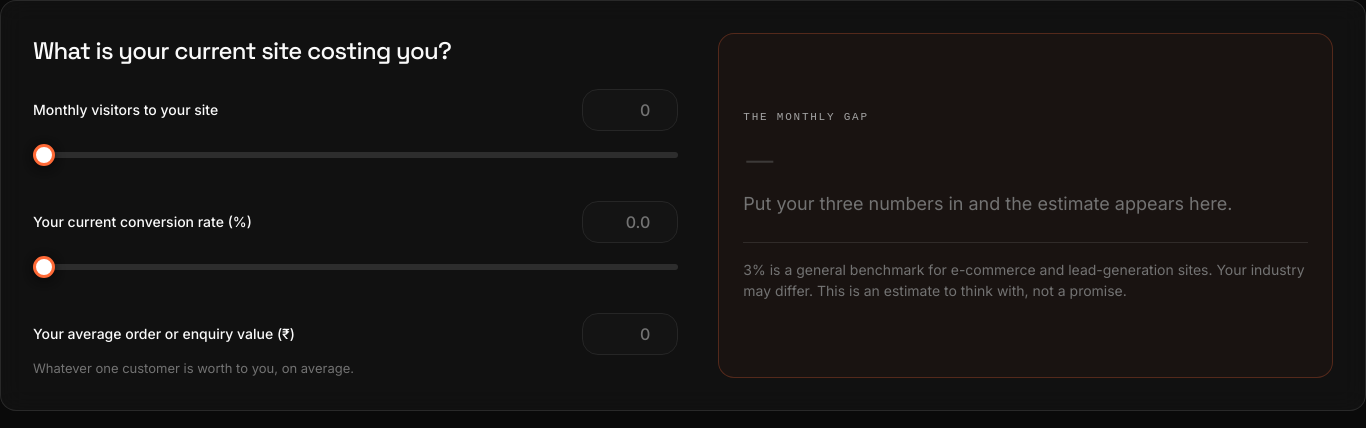
CostOfDelayCalculator › updates the output as the visitor types
Type "10000" into the number field labelled "Monthly visitors to your site" at (630, 110), box [582,89,678,131]
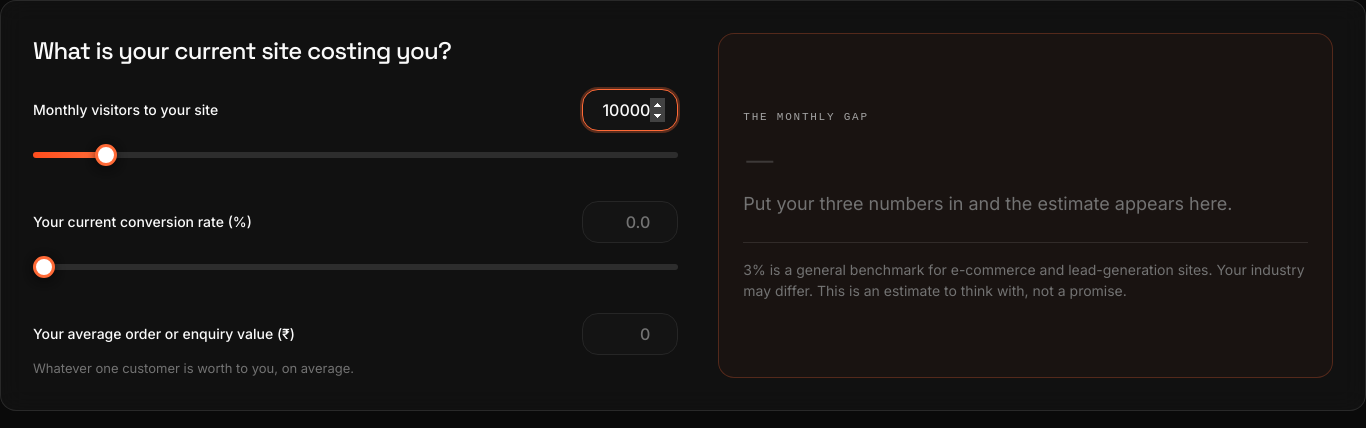
Type "1" into the number field labelled "Your current conversion rate (%)" at (630, 222), box [582,201,678,243]
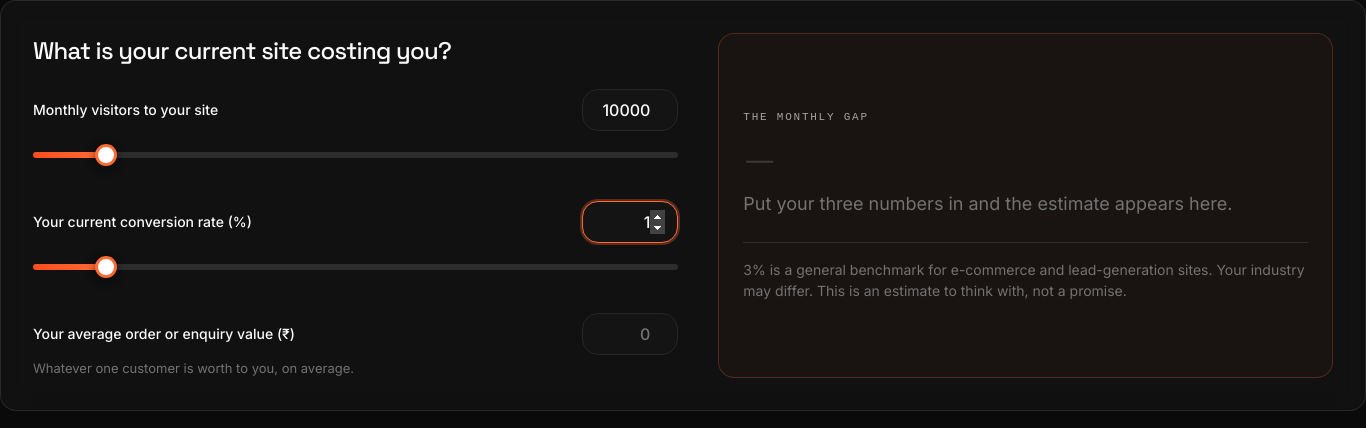
Type "2000" into the number field labelled "Your average order or enquiry value (₹)" at (630, 334), box [582,313,678,355]
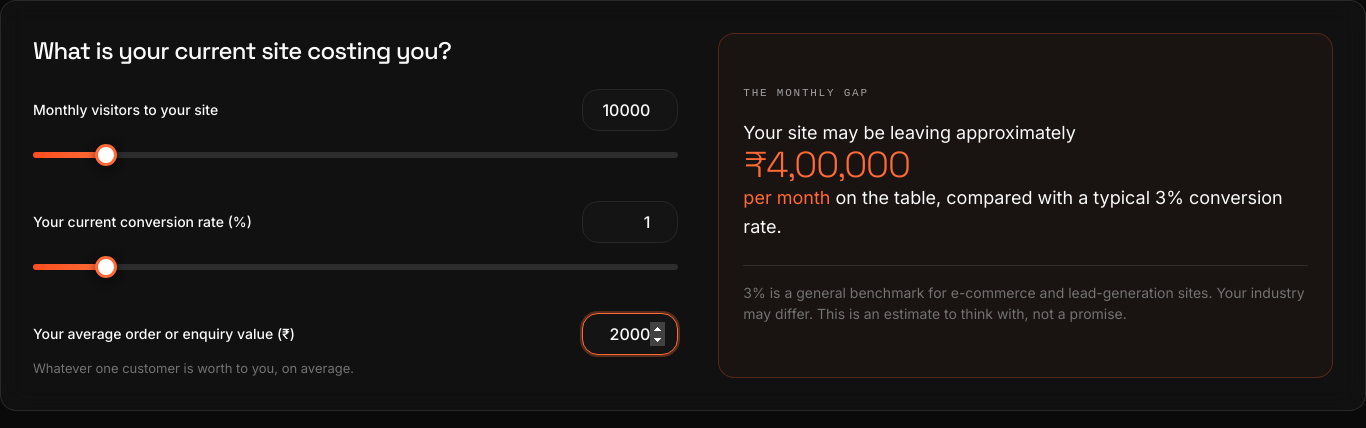
Expected: the text "leaving approximately" is shown, [743,122,1076,143]
